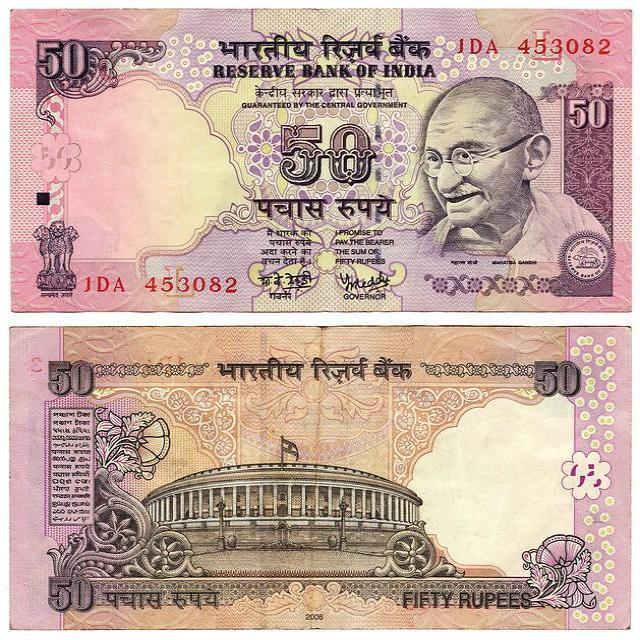50IndianRupees: (13, 324, 625, 628)
